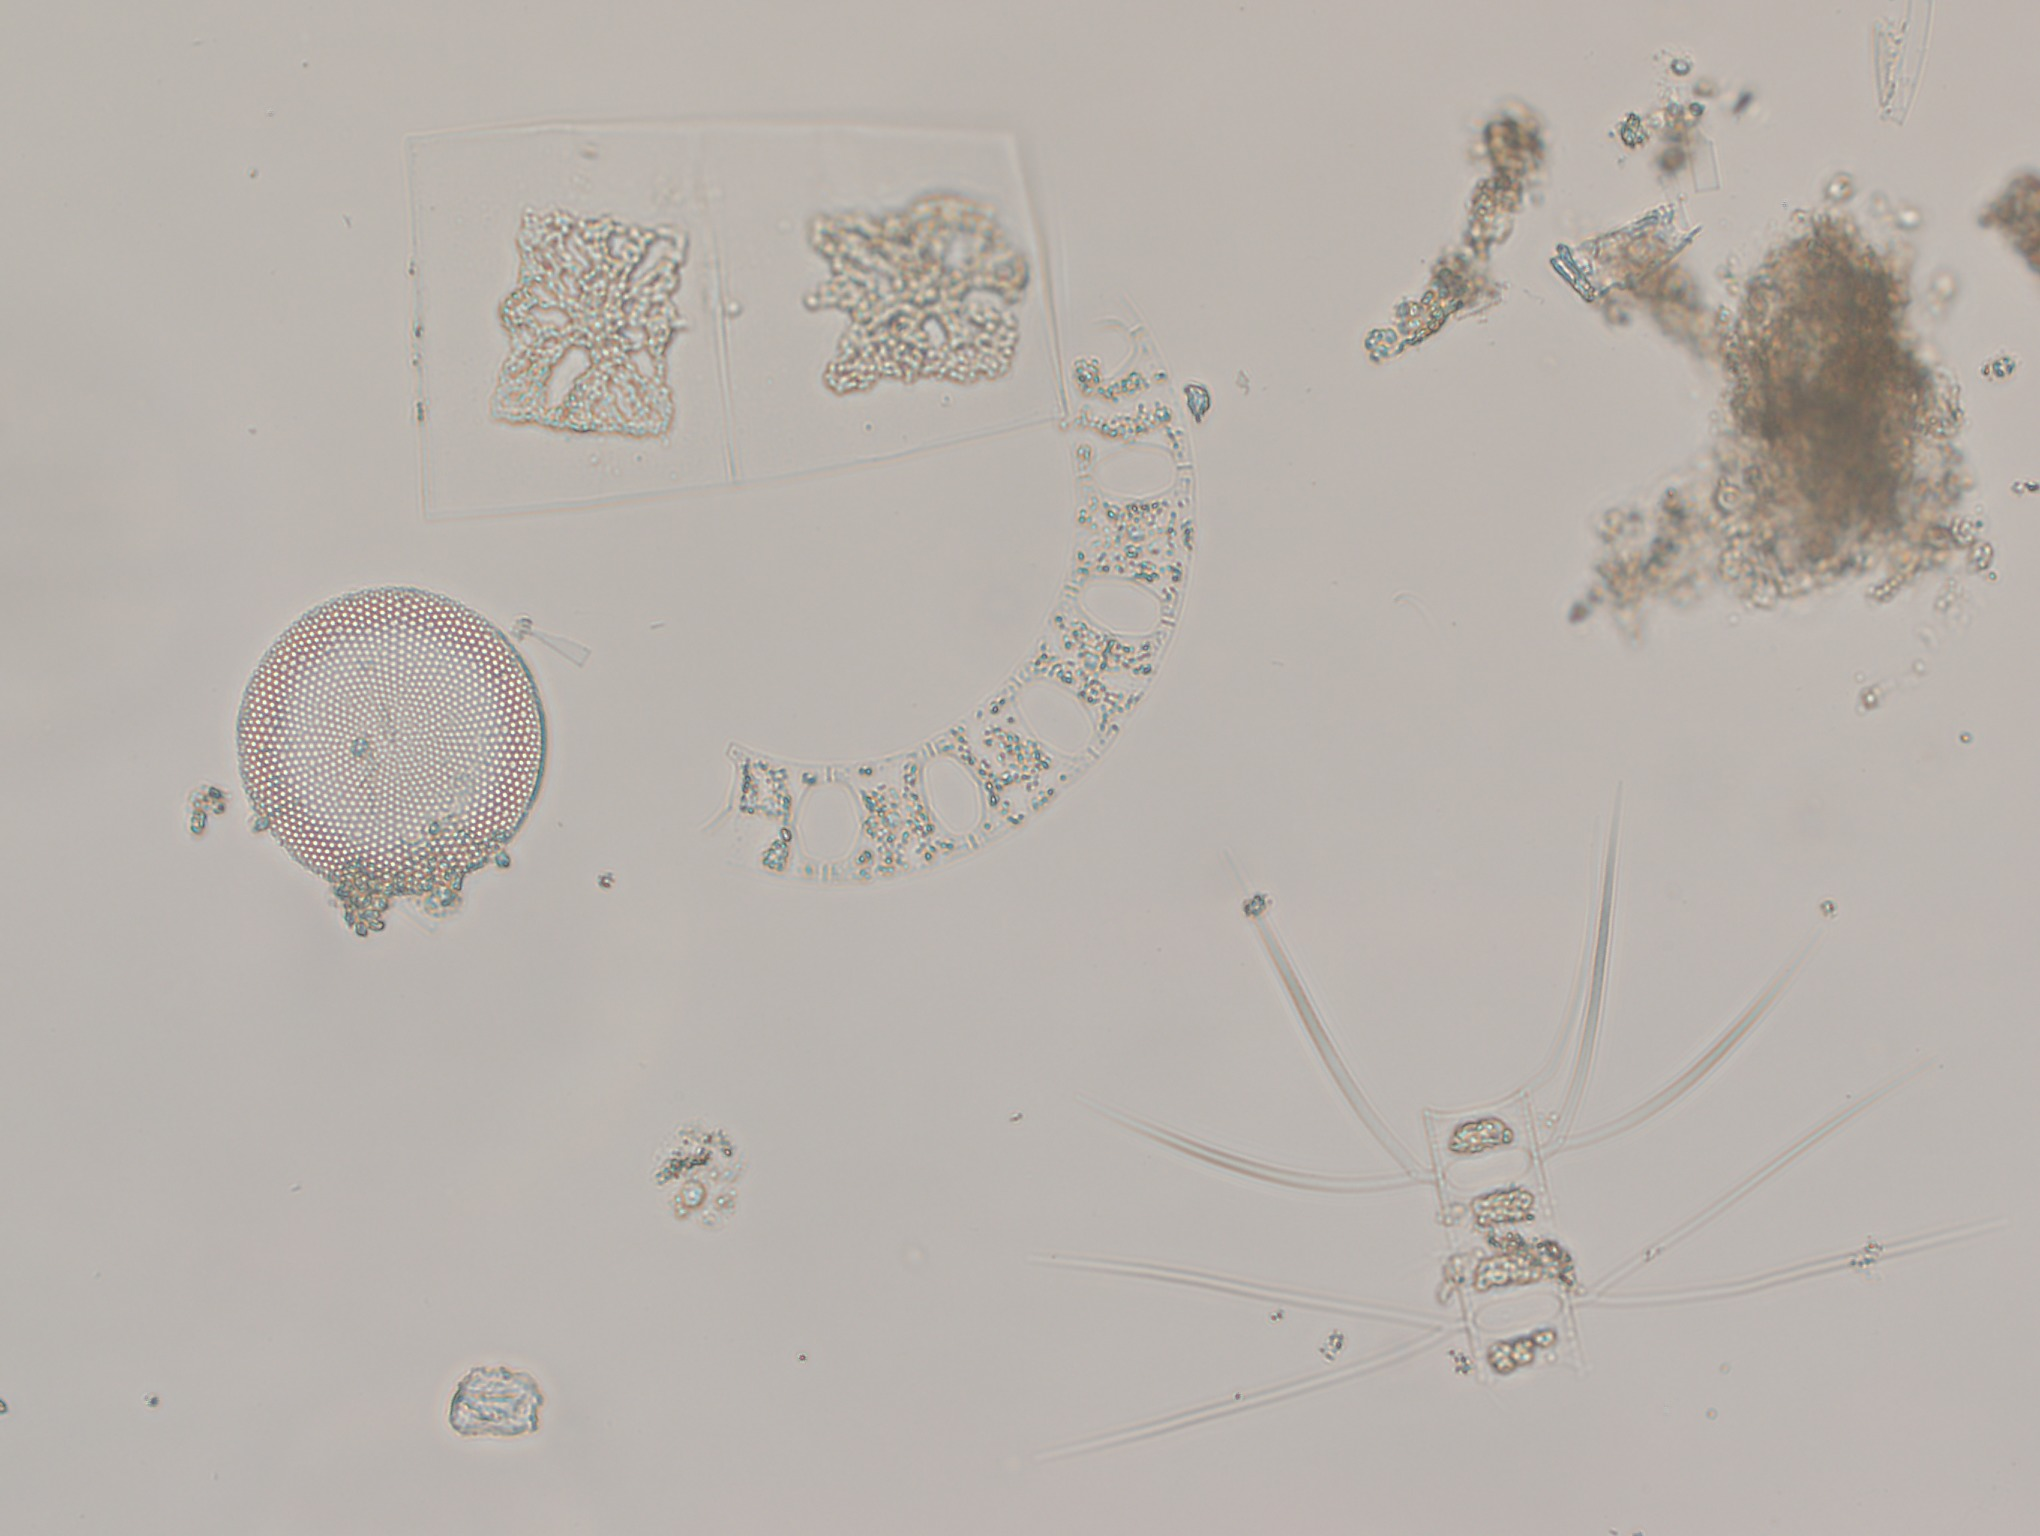chaetoceros: (1011, 781, 2005, 1459)
coscinodiscus: (235, 579, 547, 899)
eucampia: (697, 300, 1198, 886)
helicotheca: (390, 118, 1077, 520)
